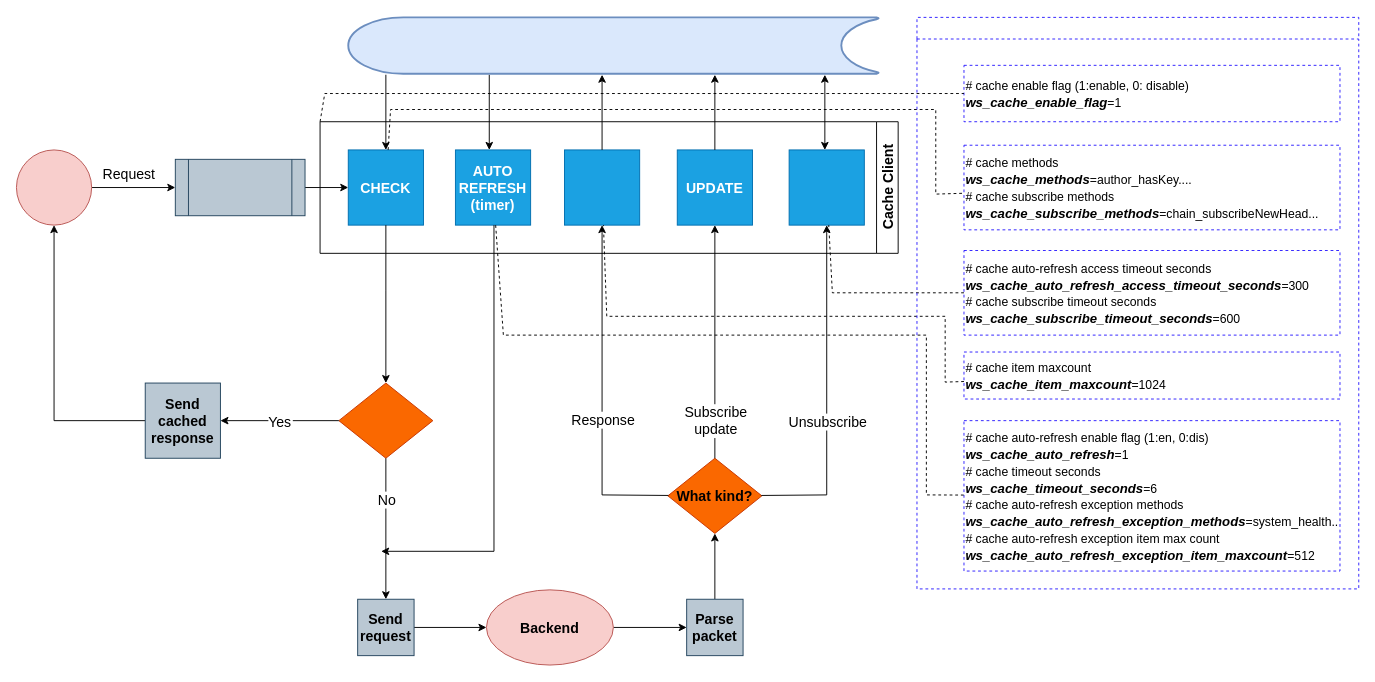
This 1375x682 diagram has some shape labels left out. The shapes that lost their labels are listed below. From the top down, each one's centre as x and y in pixels, then its label:
At (x=613, y=45): "Cache Storage".
At (x=54, y=187): "Client".
At (x=239, y=187): "Extract method name, parameters".
At (x=602, y=187): "PUT".
At (x=826, y=187): "AUTO DELETE (timer)".
At (x=1137, y=302): "Pushpin.conf".
At (x=385, y=420): "Already Cached ?".
